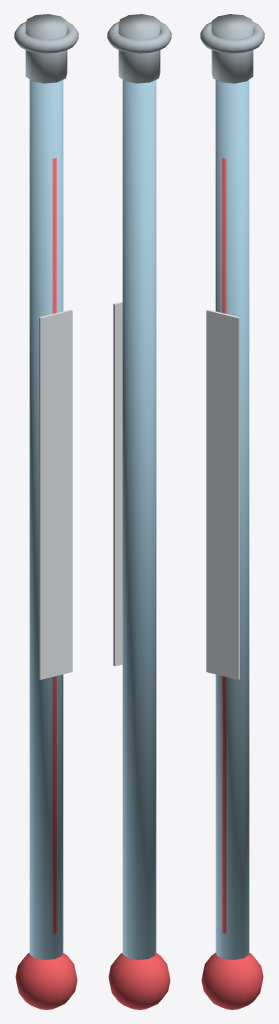
Rendered from thermometer.glb.
3 renders of one model, left to right at view 1: azimuth 30°, elevation 25°; view 2: azimuth 210°, elevation 25°; view 3: azimuth 330°, elevation 25°, orthographic.
Visible parts, largest first — view 1: thermometer; view 2: thermometer; view 3: thermometer.
Part boxes in pixels (bbox=[...]): thermometer: bbox=[14, 14, 78, 1009]; thermometer: bbox=[107, 14, 171, 1009]; thermometer: bbox=[200, 14, 264, 1009].
Size of the model in its own units: 0.023 by 0.381 by 0.0227.
